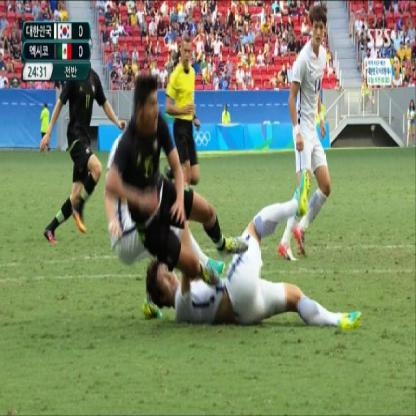Fall_Down: (106, 75, 248, 292)
